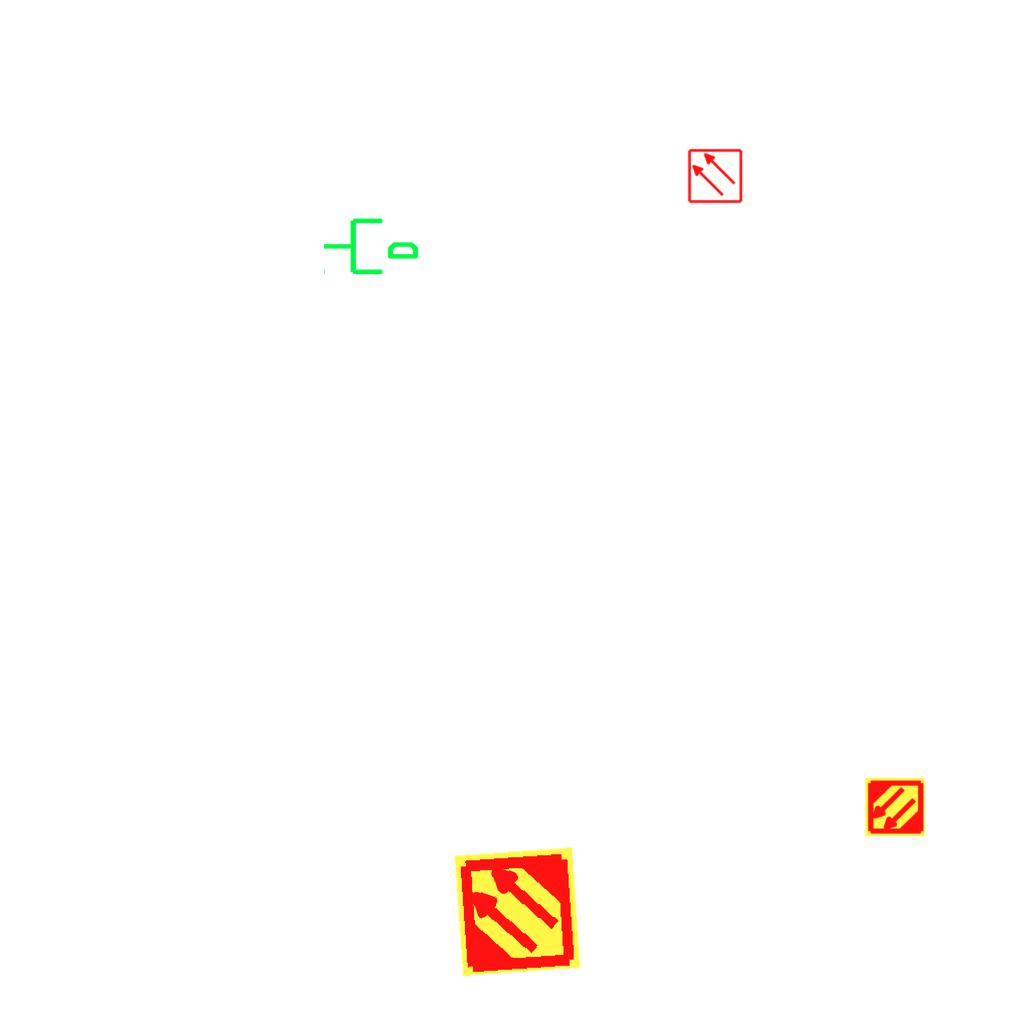ASR_Ansaugrauchmelder: (450, 844, 585, 979), (864, 776, 926, 838)
Datenanschluss_einfach: (321, 210, 421, 279)
RMO_Rauchmelder_optischer: (687, 148, 743, 204)
